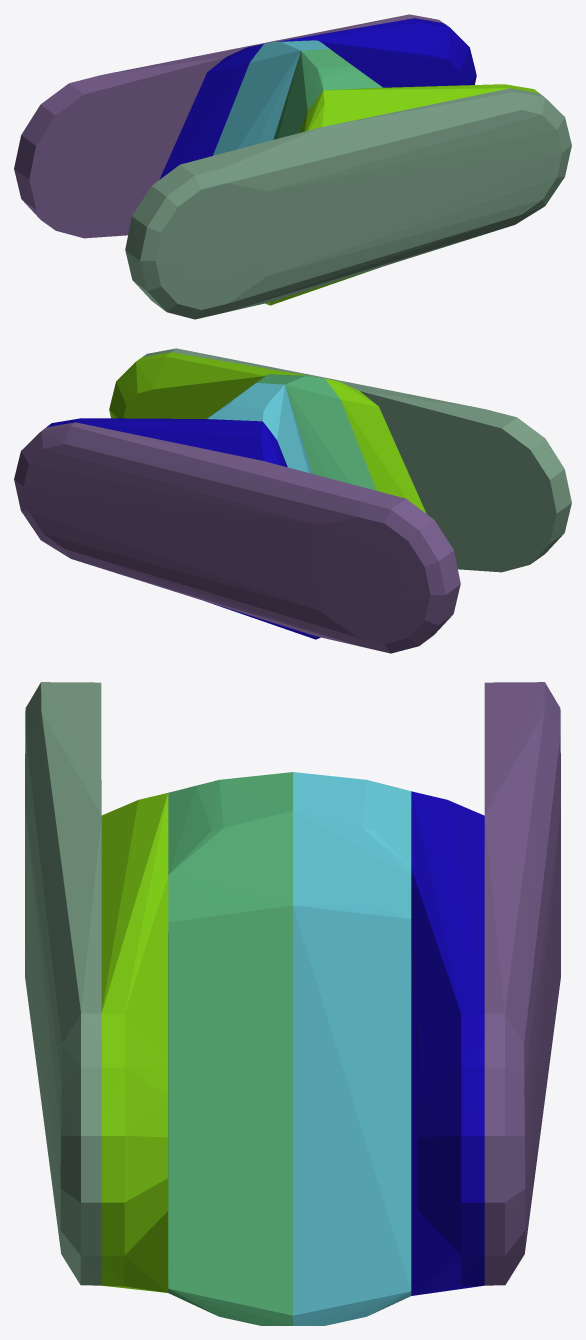
3 renders of one model, top to bottom at view 1: azimuth 30°, elevation 25°; view 2: azimuth 150°, elevation 25°; view 3: azimuth 270°, elevation 25°, orthographic. The views are drawn at different scales.
Parts seen in each view (by area): view 1: geometry_0, geometry_1, geometry_5, geometry_2, geometry_4, geometry_3; view 2: geometry_1, geometry_0, geometry_4, geometry_3, geometry_5, geometry_2; view 3: geometry_3, geometry_2, geometry_1, geometry_0, geometry_5, geometry_4.
Boxes of the visible parts, <box> form: geometry_0: <box>125,88,571,319</box>; geometry_1: <box>14,14,443,238</box>; geometry_5: <box>159,18,476,179</box>; geometry_2: <box>213,40,329,155</box>; geometry_4: <box>265,84,539,305</box>; geometry_3: <box>273,49,382,139</box>; geometry_1: <box>14,422,460,653</box>; geometry_0: <box>142,348,571,572</box>; geometry_4: <box>109,352,426,513</box>; geometry_3: <box>256,374,376,490</box>; geometry_5: <box>46,418,320,639</box>; geometry_2: <box>207,383,312,473</box>; geometry_3: <box>168,772,292,1325</box>; geometry_2: <box>293,772,411,1325</box>; geometry_1: <box>484,682,560,1285</box>; geometry_0: <box>25,682,101,1285</box>; geometry_5: <box>411,791,484,1295</box>; geometry_4: <box>101,793,168,1292</box>.
Size of the model in its own units: 0.0375 by 0.0169 by 0.0197.
